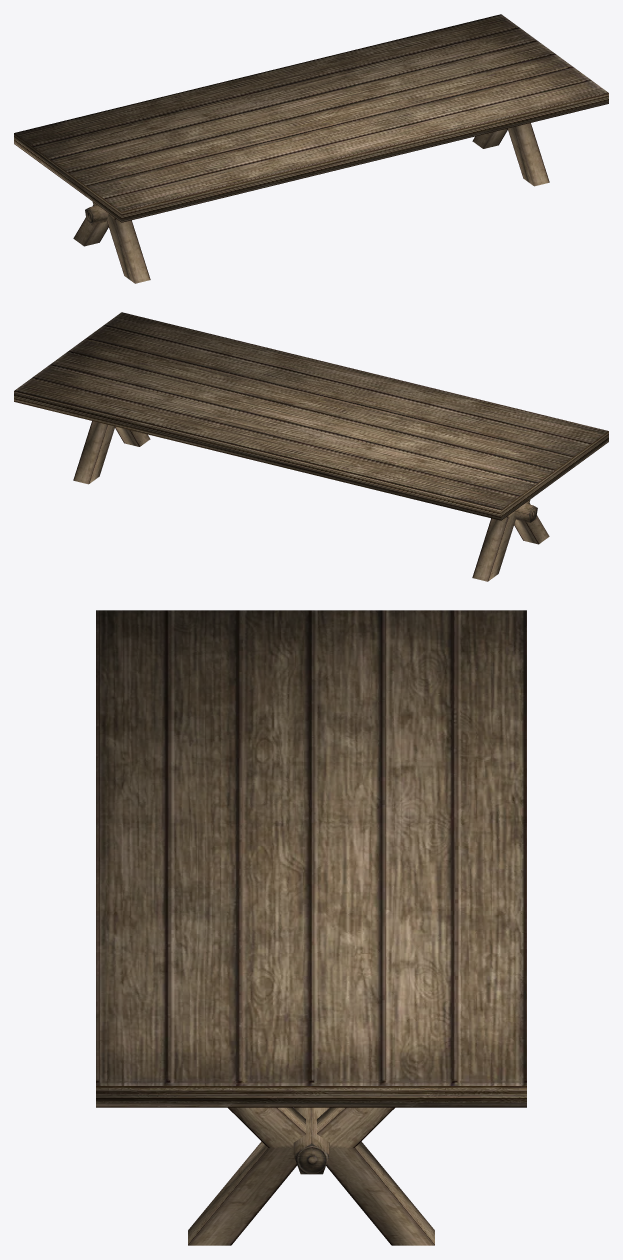
File: GS_LOB_TABLE_HEAVY_LONG_YELLOW_01_KOZA.glb
3 renders of one model, top to bottom at view 1: azimuth 30°, elevation 25°; view 2: azimuth 150°, elevation 25°; view 3: azimuth 270°, elevation 25°, orthographic. The views are drawn at different scales.
Parts seen in each view (by area): view 1: Mesh; view 2: Mesh; view 3: Mesh.
Boxes of the visible parts, left/top/right/bottom form: Mesh: left=14, top=14, right=608, bottom=283; Mesh: left=14, top=312, right=608, bottom=581; Mesh: left=96, top=610, right=526, bottom=1245.
Size of the model in its own units: 4.7 by 0.9001 by 1.8.
Materials: 3 (3 with a texture image).
